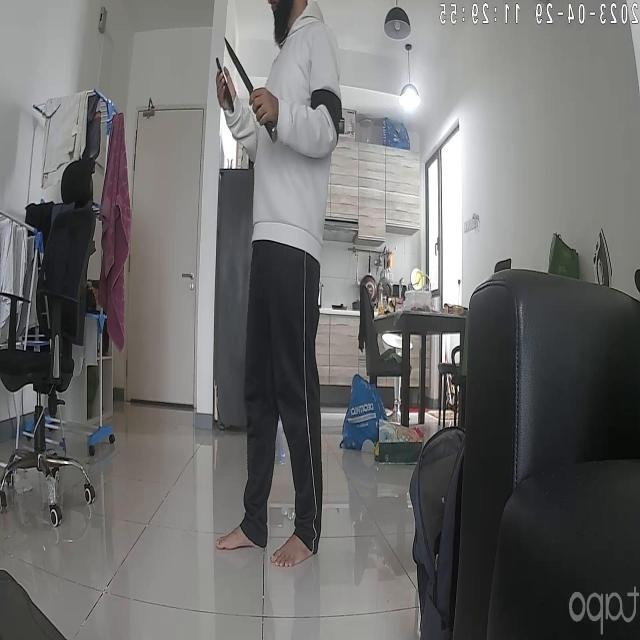Knife: (219, 31, 279, 137)
